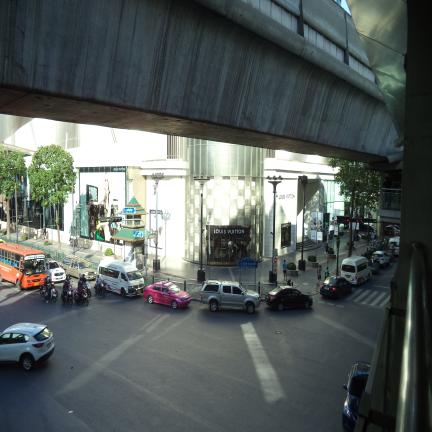bus: (0, 243, 46, 288)
car: (0, 323, 54, 370), (342, 362, 370, 430), (265, 287, 313, 311), (320, 276, 352, 298), (373, 251, 390, 268)
human: (44, 276, 51, 303), (95, 273, 102, 295), (77, 280, 83, 304), (282, 260, 287, 281), (317, 265, 322, 283), (43, 227, 48, 240), (325, 266, 330, 278), (34, 228, 38, 240)
motorbike: (60, 280, 73, 306), (73, 289, 88, 306), (369, 257, 380, 275), (94, 281, 106, 296), (48, 284, 58, 302), (84, 281, 92, 298), (40, 285, 45, 298)
pickup: (201, 280, 260, 314), (61, 256, 96, 280), (46, 259, 66, 283)
taxi: (144, 281, 191, 309)
van: (98, 260, 144, 297), (340, 256, 371, 285), (388, 237, 400, 256)
